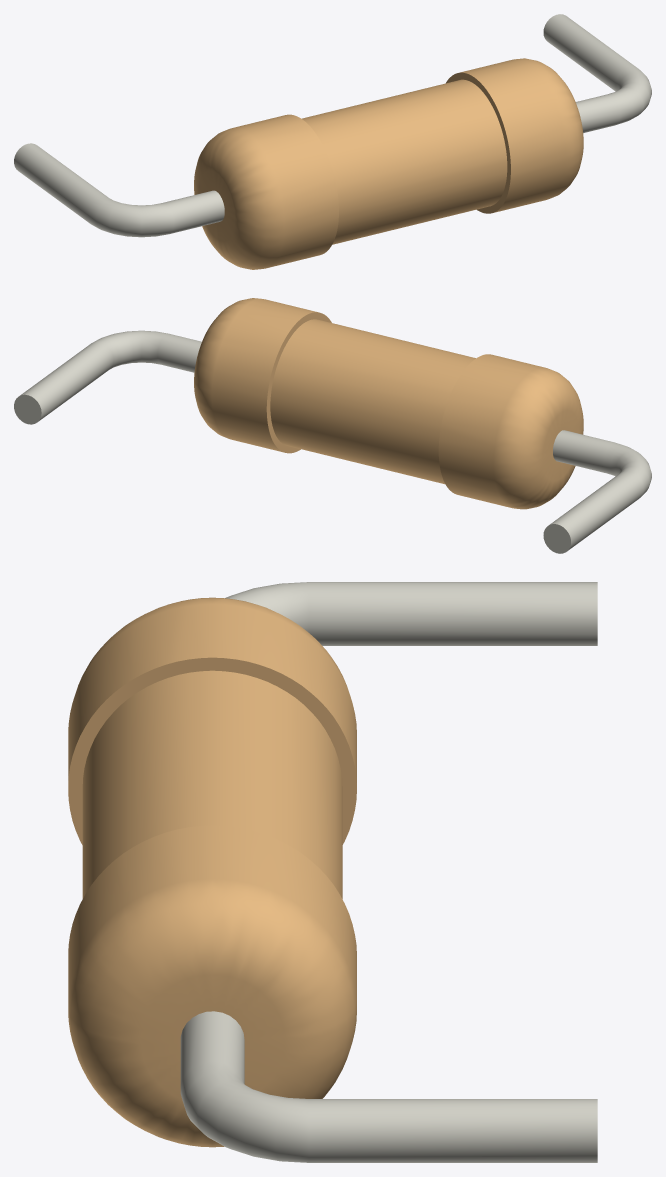
File: r-axial-din0411-l9.9-d3.6-p15.24-h.glb
3 renders of one model, top to bottom at view 1: azimuth 30°, elevation 25°; view 2: azimuth 150°, elevation 25°; view 3: azimuth 270°, elevation 25°, orthographic. The views are drawn at different scales.
Parts seen in each view (by area): view 1: RES-THT-01, PIN-01; view 2: RES-THT-01, PIN-01; view 3: RES-THT-01, PIN-01.
Part boxes in pixels (x1,y1,x2,y2): RES-THT-01: (194, 58, 583, 269); PIN-01: (14, 14, 651, 237); RES-THT-01: (194, 298, 583, 509); PIN-01: (14, 330, 651, 553); RES-THT-01: (68, 597, 356, 1147); PIN-01: (180, 582, 597, 1162).
Size of the model in its own units: 16.03 by 3.6 by 6.6.
